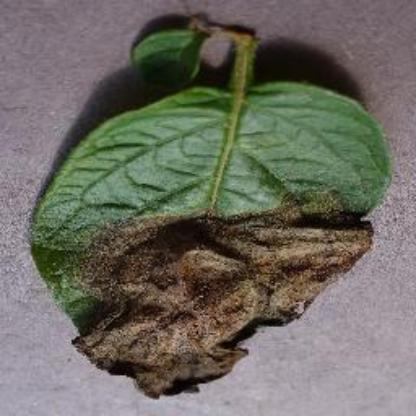Late-Blight: (26, 65, 416, 407)
